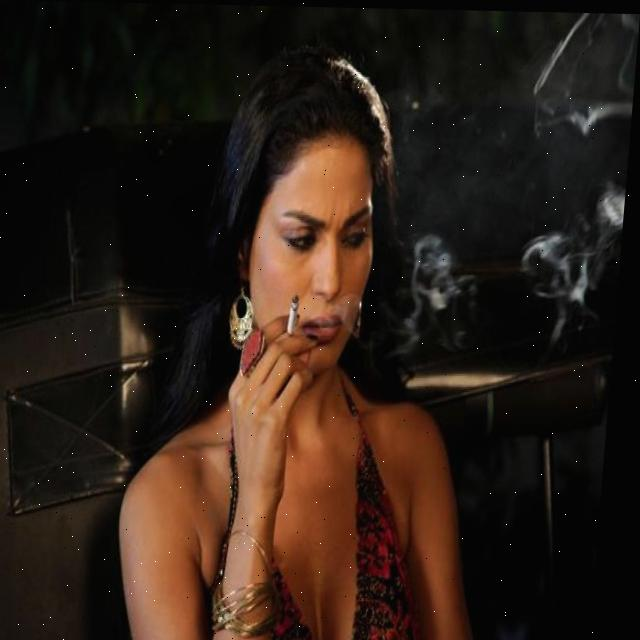cigarette: (293, 292, 304, 335)
